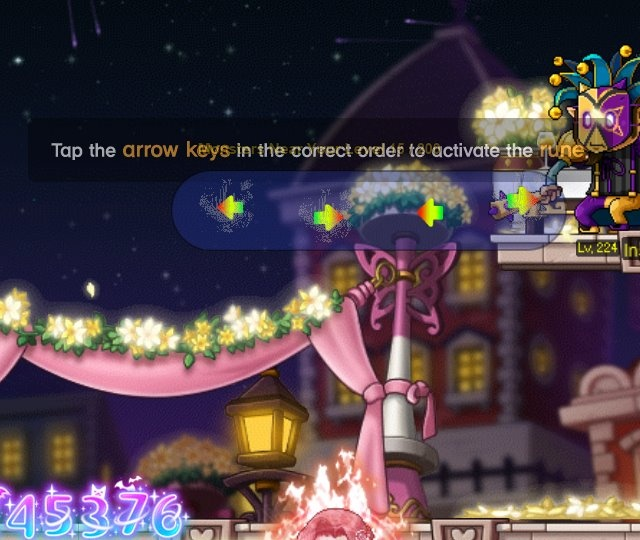rune_box: (160, 163, 578, 263)
